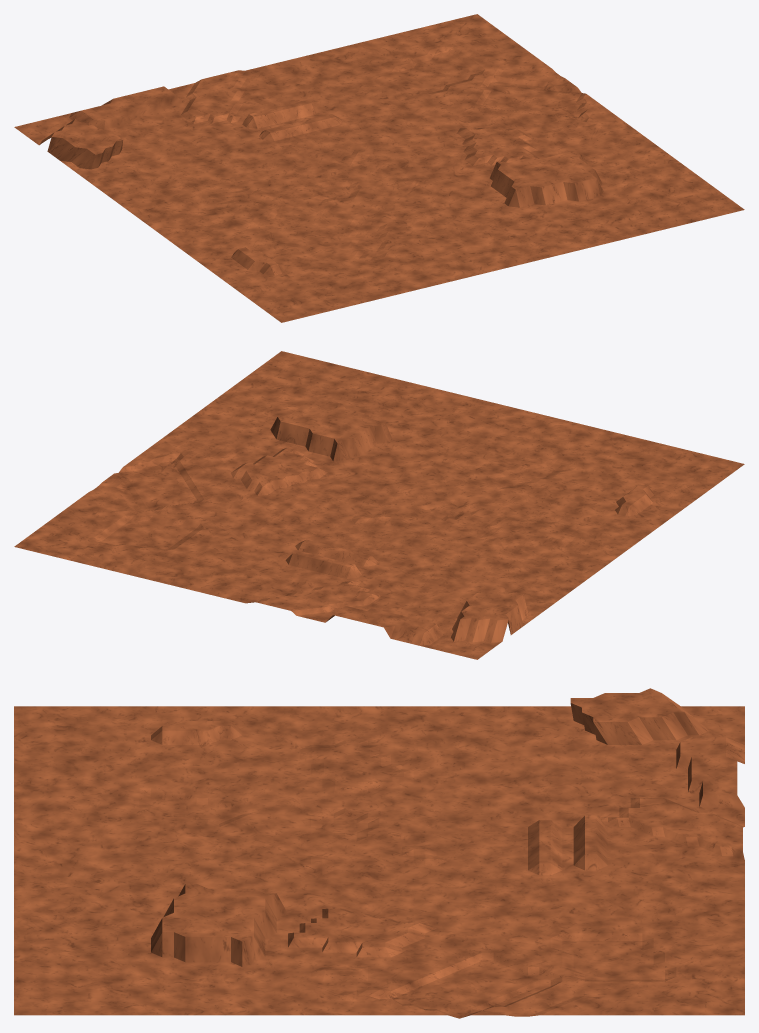
Rendered from desert.dae.
The picture shows the model from 3 angles, top to bottom: view 1: azimuth 30°, elevation 25°; view 2: azimuth 150°, elevation 25°; view 3: azimuth 270°, elevation 25°; orthographic projection. The views are drawn at different scales.
Visible parts, largest first — view 1: Plane; view 2: Plane; view 3: Plane.
Boxes of the visible parts, x1,y1,x2,y2 form: Plane: (14, 14, 744, 322); Plane: (14, 351, 744, 659); Plane: (14, 688, 744, 1018).
Bounding box in the file's own units: 100 × 100 × 3.82.
